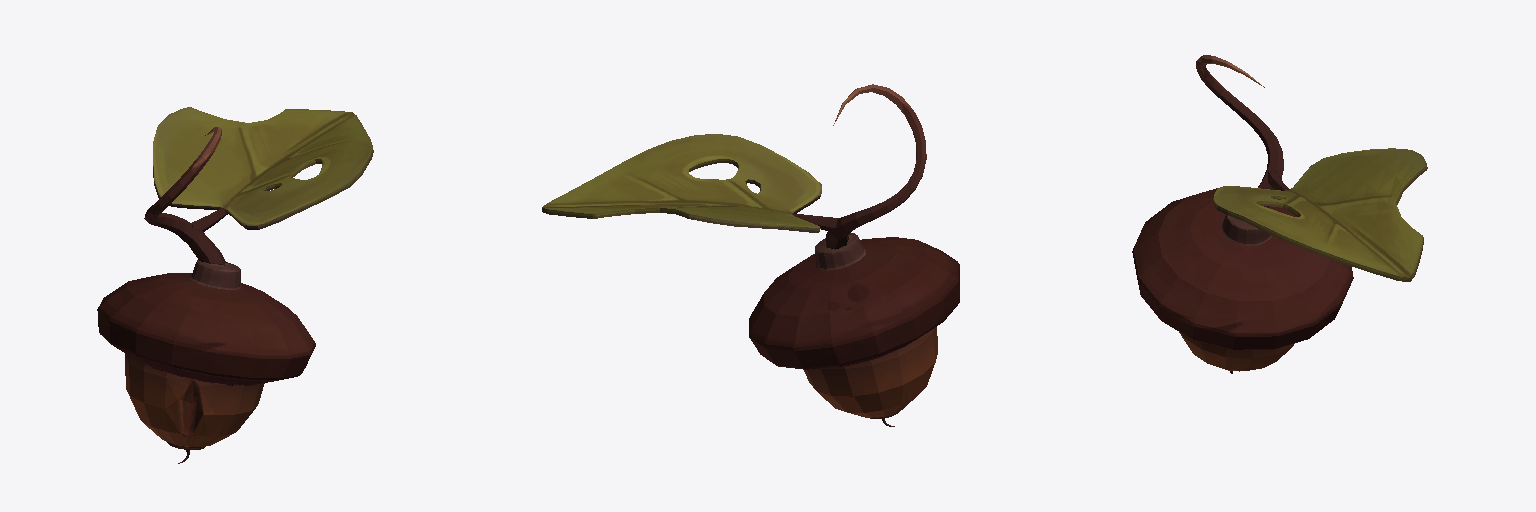
3 views of the same model, side by side, from view 1: azimuth 30°, elevation 25°; view 2: azimuth 150°, elevation 25°; view 3: azimuth 270°, elevation 25° (orthographic).
Visible parts, largest first — view 1: Plane_Material.002_0, Sphere.001_Material.001_0, Sphere_Material_0, NurbsPath_Material.003_0; view 2: Sphere.001_Material.001_0, Plane_Material.002_0, Sphere_Material_0, NurbsPath_Material.003_0; view 3: Sphere.001_Material.001_0, Plane_Material.002_0, NurbsPath_Material.003_0, Sphere_Material_0.
Boxes of the visible parts, x1,y1,x2,y2 form: Plane_Material.002_0: [153, 107, 373, 229]; Sphere.001_Material.001_0: [97, 260, 315, 385]; Sphere_Material_0: [125, 354, 264, 449]; NurbsPath_Material.003_0: [144, 127, 226, 265]; Sphere.001_Material.001_0: [749, 233, 959, 369]; Plane_Material.002_0: [542, 134, 821, 232]; Sphere_Material_0: [804, 327, 937, 418]; NurbsPath_Material.003_0: [826, 84, 926, 249]; Sphere.001_Material.001_0: [1132, 188, 1353, 349]; Plane_Material.002_0: [1213, 148, 1427, 281]; NurbsPath_Material.003_0: [1196, 55, 1283, 207]; Sphere_Material_0: [1179, 332, 1294, 371].
Size of the model in its own units: 4.18 by 4.09 by 3.32.
4 materials, 1 textured.